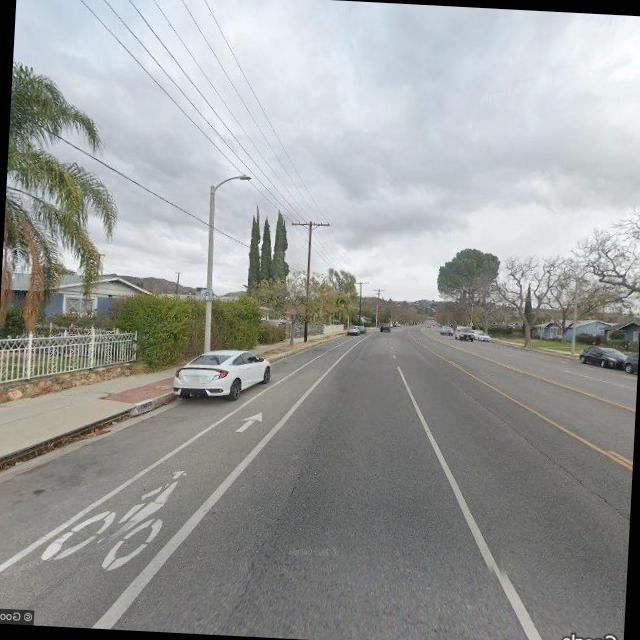pothole: (230, 456, 312, 624)
